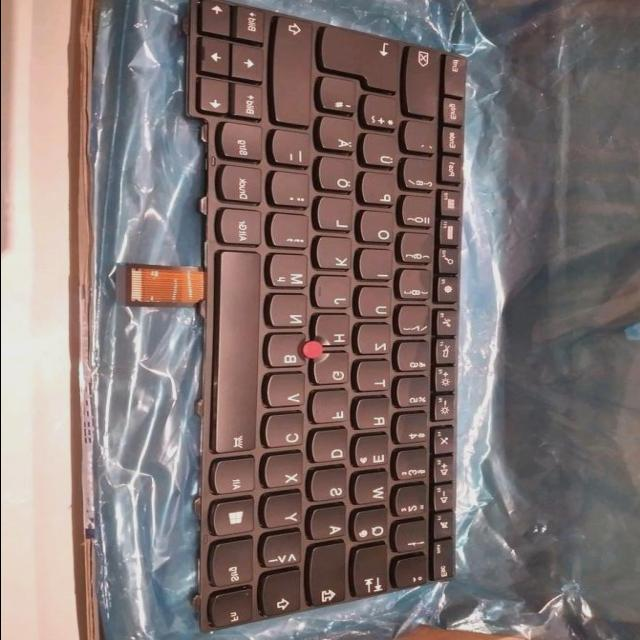0: (403, 197, 437, 230)
1: (395, 522, 431, 555)
2: (396, 487, 430, 520)
3: (397, 450, 431, 484)
4: (397, 415, 431, 447)
5: (398, 379, 432, 411)
6: (398, 344, 432, 374)
7: (400, 308, 432, 338)
8: (400, 271, 434, 303)
9: (400, 234, 436, 267)
a: (312, 508, 350, 543)
accent: (405, 123, 439, 157)
ae: (319, 118, 358, 154)
alt-left: (214, 460, 259, 498)
altgr-right: (221, 211, 266, 251)
b: (269, 335, 309, 371)
c: (266, 415, 307, 451)
caret: (395, 559, 431, 592)
comma: (272, 215, 312, 251)
d: (313, 431, 351, 466)
del: (405, 47, 441, 119)
e: (356, 437, 392, 471)
enter: (320, 25, 404, 95)
f: (314, 393, 352, 427)
g: (316, 355, 352, 387)
h: (317, 316, 353, 350)
hash: (320, 78, 360, 115)
i: (360, 251, 396, 283)
j: (316, 278, 354, 312)
k: (317, 238, 355, 272)
keyboard: (186, 0, 466, 633)
l: (318, 200, 356, 235)
less: (263, 534, 306, 571)
m: (270, 256, 312, 292)
minus: (272, 132, 315, 170)
n: (271, 296, 311, 331)
o: (361, 213, 397, 247)
oe: (318, 159, 357, 195)
p: (361, 174, 399, 209)
plus: (364, 97, 402, 133)
point: (273, 173, 313, 211)
q: (353, 510, 391, 545)
r: (357, 399, 393, 432)
s: (312, 470, 350, 504)
shift-left: (262, 572, 305, 619)
shift-lock: (309, 545, 350, 610)
shift-right: (273, 16, 316, 130)
space: (215, 252, 263, 458)
ss: (404, 160, 438, 193)
strg-left: (211, 540, 258, 592)
strg-right: (221, 125, 266, 165)
t: (358, 362, 394, 394)
tab: (354, 547, 392, 600)
u: (358, 288, 394, 321)
ue: (362, 134, 400, 170)
v: (269, 375, 309, 410)
w: (356, 474, 392, 508)
x: (266, 455, 307, 491)
y: (266, 495, 306, 531)
z: (358, 325, 394, 357)
